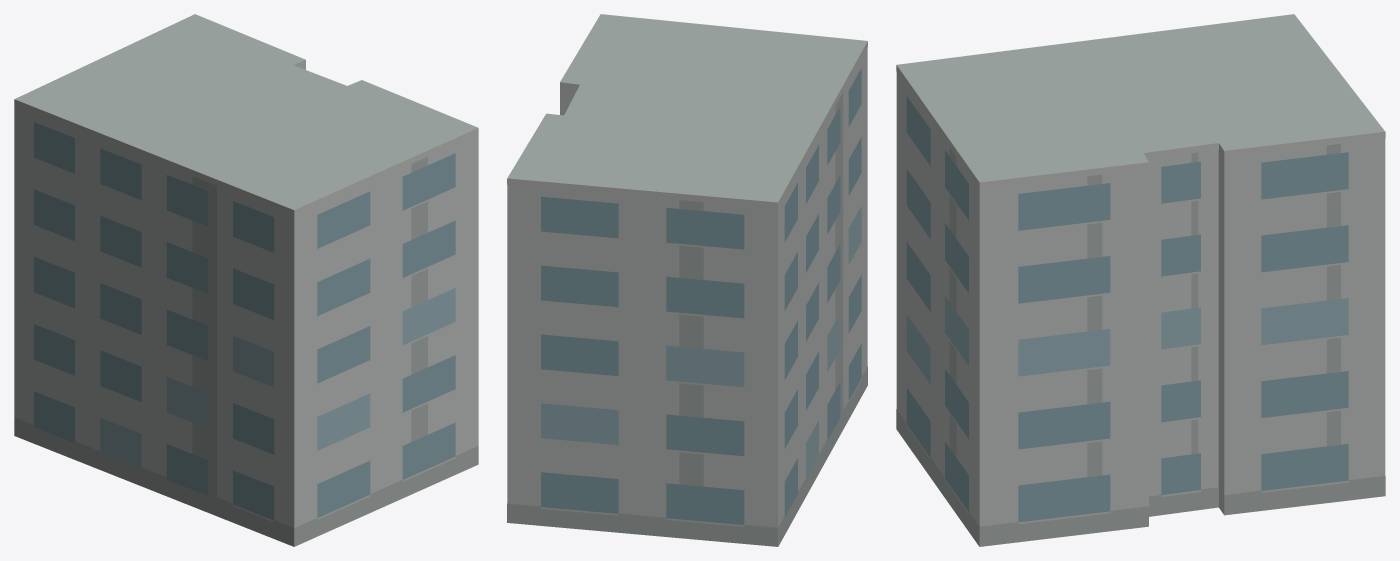
Rendered from survey-upis-32568901.glb.
3 renders of one model, left to right at view 1: azimuth 30°, elevation 25°; view 2: azimuth 150°, elevation 25°; view 3: azimuth 270°, elevation 25°, orthographic. The views are drawn at different scales.
Parts seen in each view (by area): view 1: survey-upis-32568901.tmp; view 2: survey-upis-32568901.tmp; view 3: survey-upis-32568901.tmp.
Boxes of the visible parts, x1,y1,x2,y2 form: survey-upis-32568901.tmp: (14, 14, 478, 546); survey-upis-32568901.tmp: (507, 14, 867, 546); survey-upis-32568901.tmp: (896, 14, 1385, 546).
Bounding box in the file's own units: 13.1 × 13.2 × 16.06.
